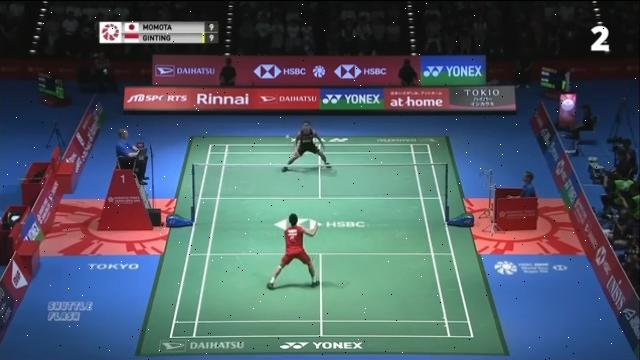Shuttlecock: (288, 137, 298, 145)
